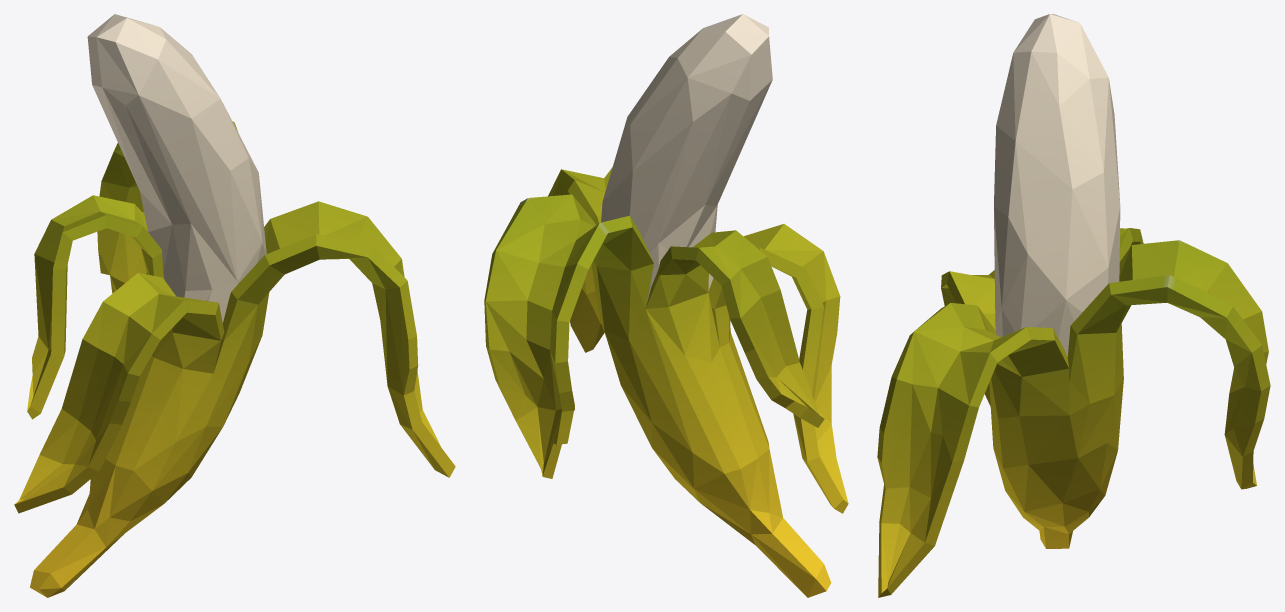
The model's file is SM_Food_Bananna_Open.fbx.
3 views of the same model, side by side, from view 1: azimuth 30°, elevation 25°; view 2: azimuth 150°, elevation 25°; view 3: azimuth 270°, elevation 25° (orthographic). The views are drawn at different scales.
Parts seen in each view (by area): view 1: SM_Food_Bananna_Open; view 2: SM_Food_Bananna_Open; view 3: SM_Food_Bananna_Open.
Part boxes in pixels (x1,y1,x2,y2): SM_Food_Bananna_Open: (14, 14, 455, 597); SM_Food_Bananna_Open: (484, 14, 848, 597); SM_Food_Bananna_Open: (877, 14, 1270, 597).
Size of the model in its own units: 15.42 by 23.24 by 14.49.
